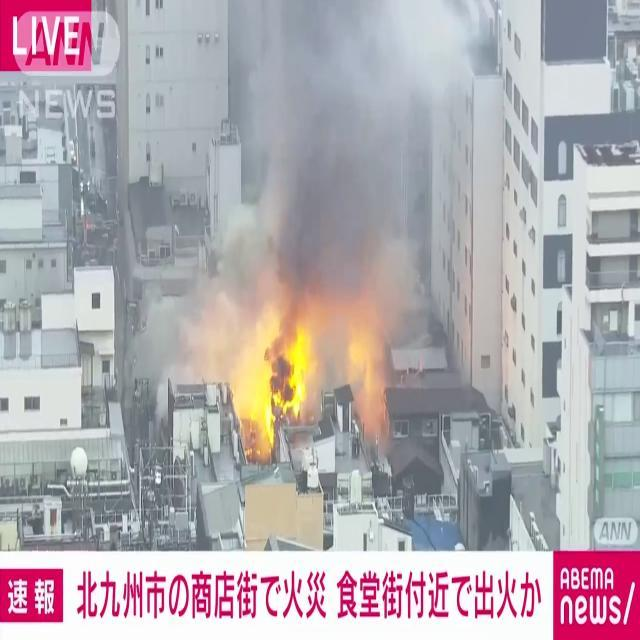Fire: (232, 303, 313, 453)
Smoke: (222, 1, 482, 321)
